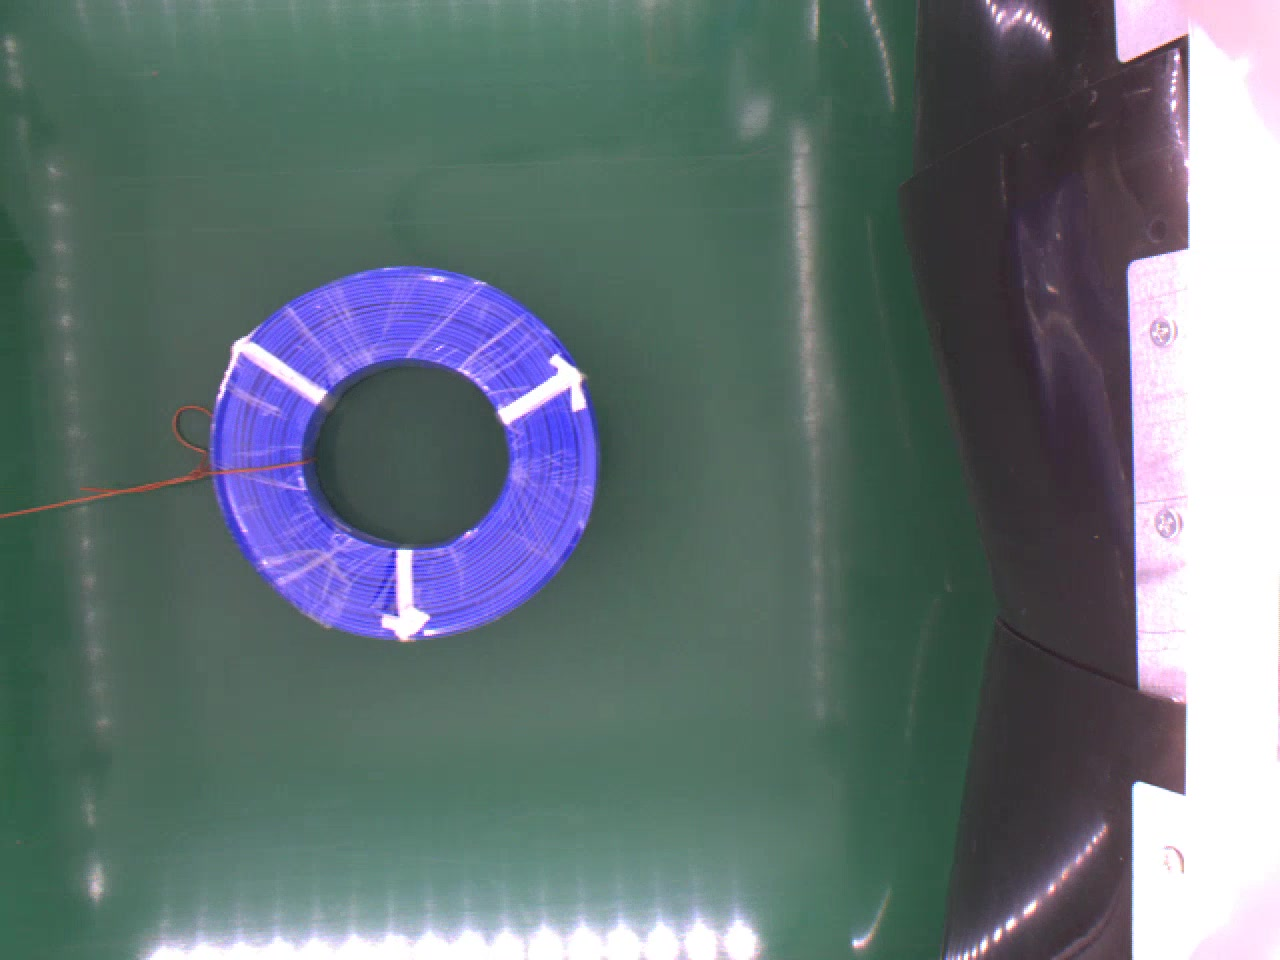blue: (213, 263, 594, 632)
